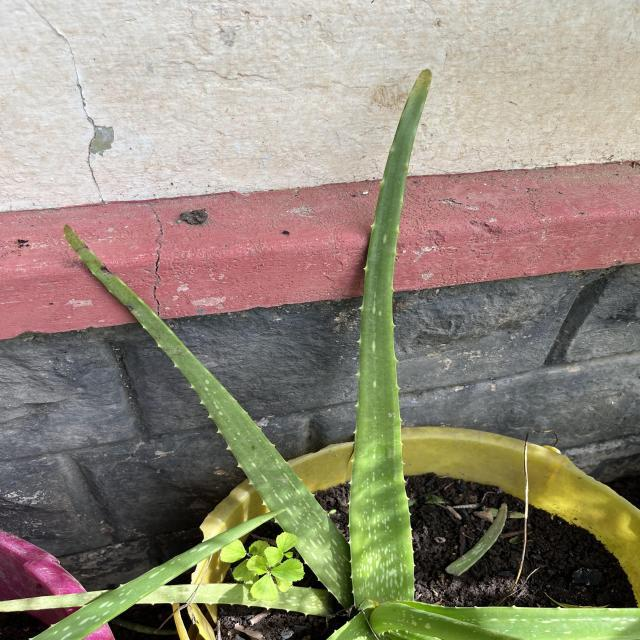Aloe vera: (342, 64, 449, 606)
